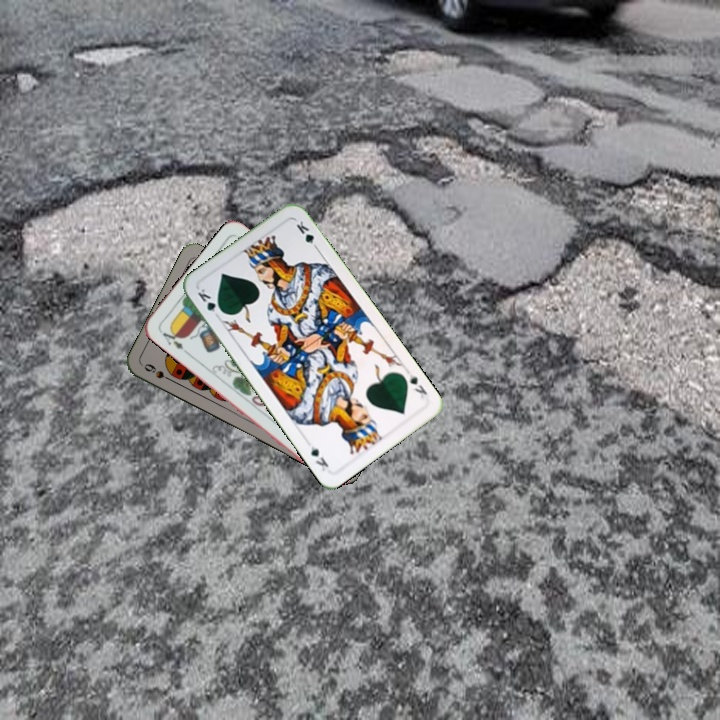EA: (156, 324, 186, 352)
GK: (194, 284, 226, 321), (403, 370, 430, 403)
S9: (140, 359, 177, 385)
